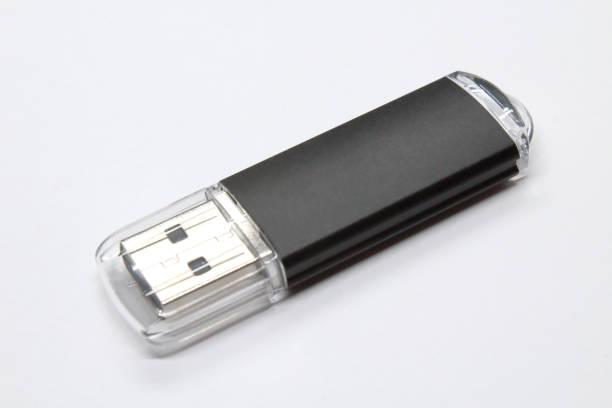USB Flash Drive: (94, 71, 535, 357)
